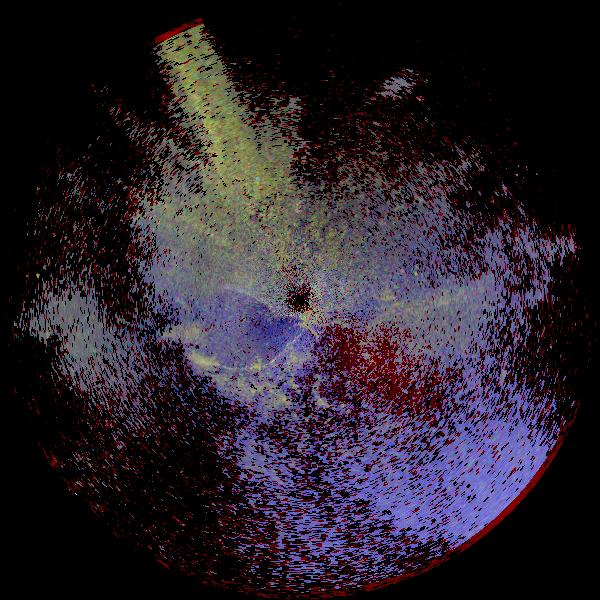roost: (114, 306, 237, 429)
